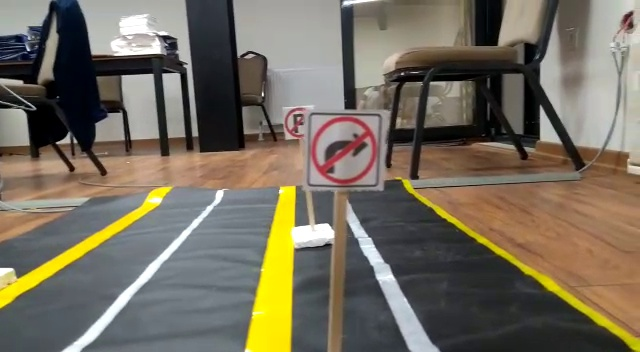park_yapilmaz: (282, 108, 308, 138)
saga_donulmez: (311, 112, 379, 187)
